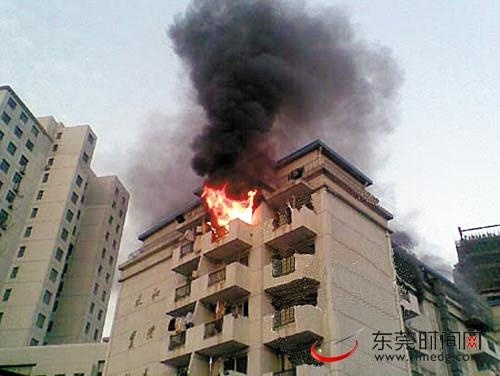fire: (203, 182, 258, 224)
